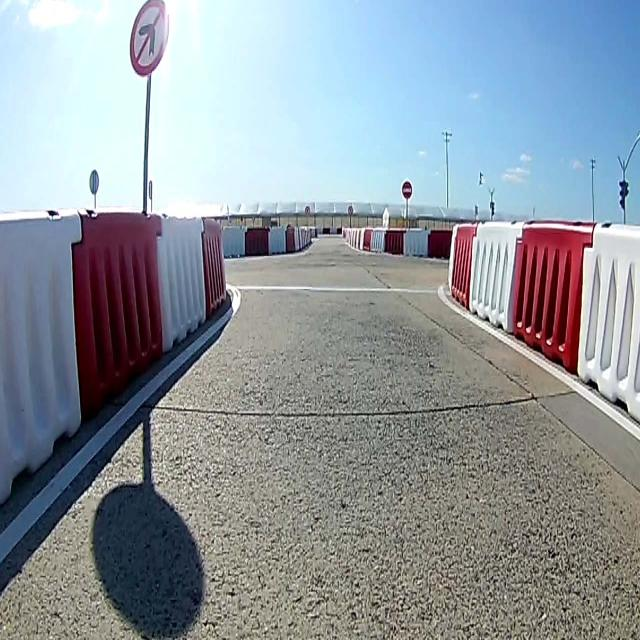girisyok: (402, 181, 412, 199)
soladonulmez: (129, 0, 169, 76)
